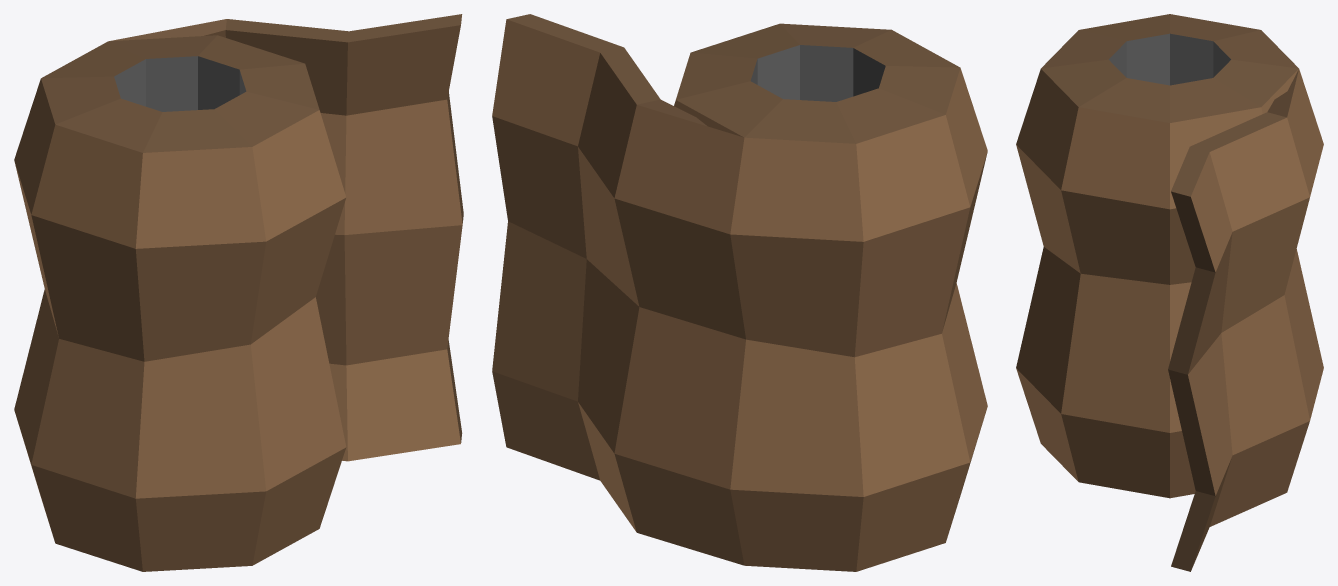
File: Bandage_Consu.glb
The picture shows the model from 3 angles, left to right: view 1: azimuth 30°, elevation 25°; view 2: azimuth 150°, elevation 25°; view 3: azimuth 270°, elevation 25°; orthographic projection. The views are drawn at different scales.
Visible parts, largest first — view 1: bandage; view 2: bandage; view 3: bandage.
Boxes of the visible parts, x1,y1,x2,y2 form: bandage: (14, 14, 463, 571); bandage: (492, 14, 987, 571); bandage: (1016, 14, 1323, 571).
Bounding box in the file's own units: 0.1833 × 0.1738 × 0.1234.
Materials: 1 (1 with a texture image).
